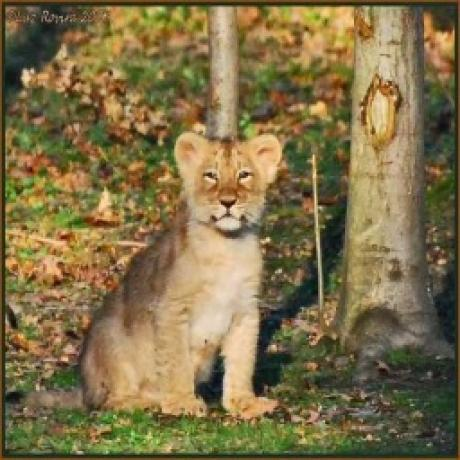Lion: (77, 128, 297, 427)
